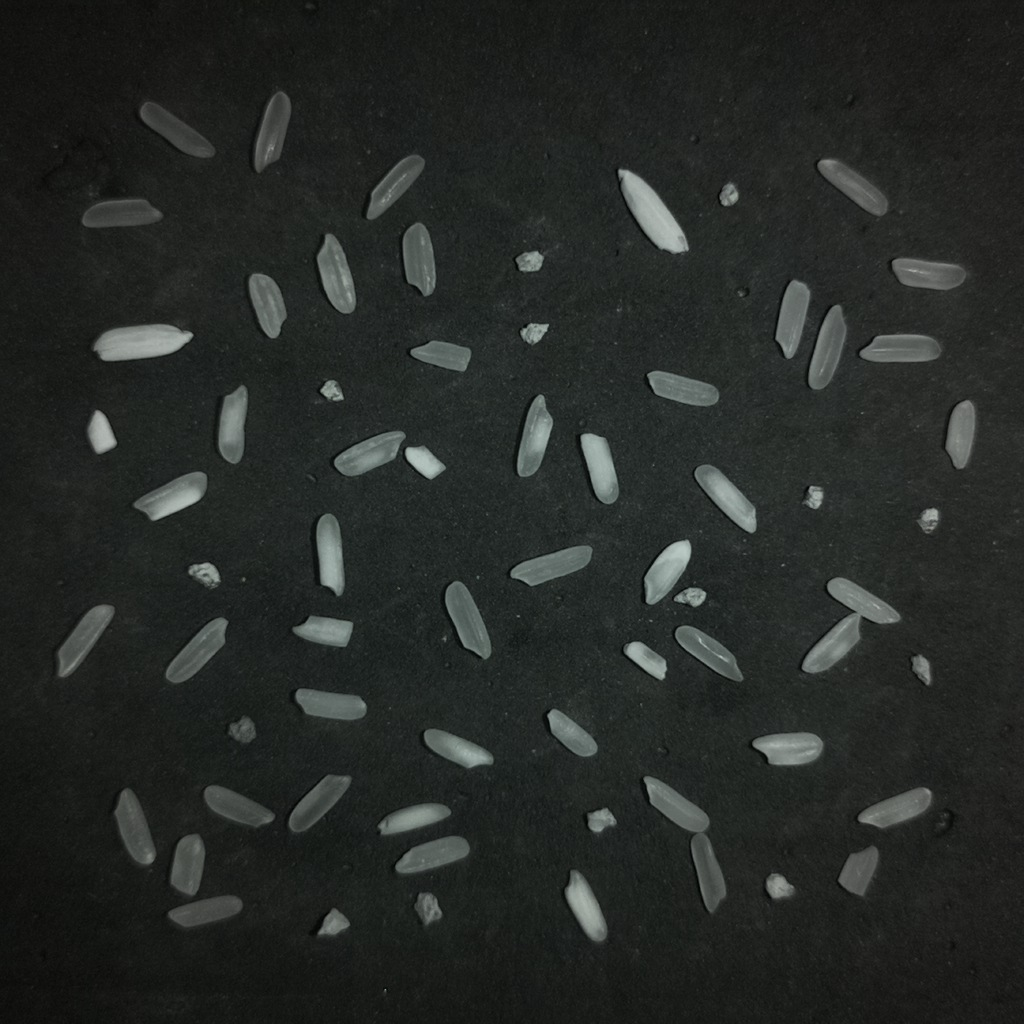broken: (837, 846, 878, 895), (410, 341, 471, 371)
chalky: (694, 464, 756, 533), (133, 472, 207, 520), (801, 613, 860, 673), (827, 577, 900, 623), (333, 431, 404, 476), (857, 787, 933, 829), (564, 869, 607, 942), (643, 540, 691, 604), (317, 233, 355, 313), (517, 395, 552, 477), (423, 728, 493, 768), (580, 433, 618, 503), (546, 709, 597, 756), (751, 732, 823, 765), (217, 385, 247, 464), (316, 513, 344, 596), (294, 688, 366, 720), (378, 803, 450, 835), (945, 401, 976, 468), (292, 615, 352, 646), (623, 641, 666, 680), (404, 446, 445, 479), (87, 411, 116, 454)
foreign: (618, 169, 688, 253), (92, 324, 193, 360), (414, 892, 442, 926), (317, 908, 349, 937), (188, 562, 221, 588), (765, 873, 795, 899), (227, 716, 255, 743), (587, 808, 616, 833), (519, 323, 550, 345), (673, 587, 706, 607), (911, 654, 932, 685), (917, 507, 940, 533), (515, 251, 543, 272), (802, 485, 824, 509), (320, 380, 342, 400), (720, 180, 737, 201)
whole: (139, 101, 215, 157), (56, 604, 114, 677), (165, 617, 227, 683), (817, 158, 887, 216), (365, 154, 424, 219), (643, 776, 709, 832), (675, 626, 742, 681), (288, 775, 351, 832), (446, 581, 491, 659), (510, 545, 592, 586), (808, 305, 847, 390), (114, 788, 155, 865), (253, 91, 291, 172), (203, 785, 274, 827), (395, 835, 469, 874), (690, 832, 725, 913), (775, 280, 810, 358), (647, 371, 718, 406), (248, 273, 286, 338), (402, 222, 435, 296), (167, 895, 242, 927), (891, 258, 965, 290), (81, 198, 162, 227), (858, 334, 940, 362), (169, 834, 204, 896)
